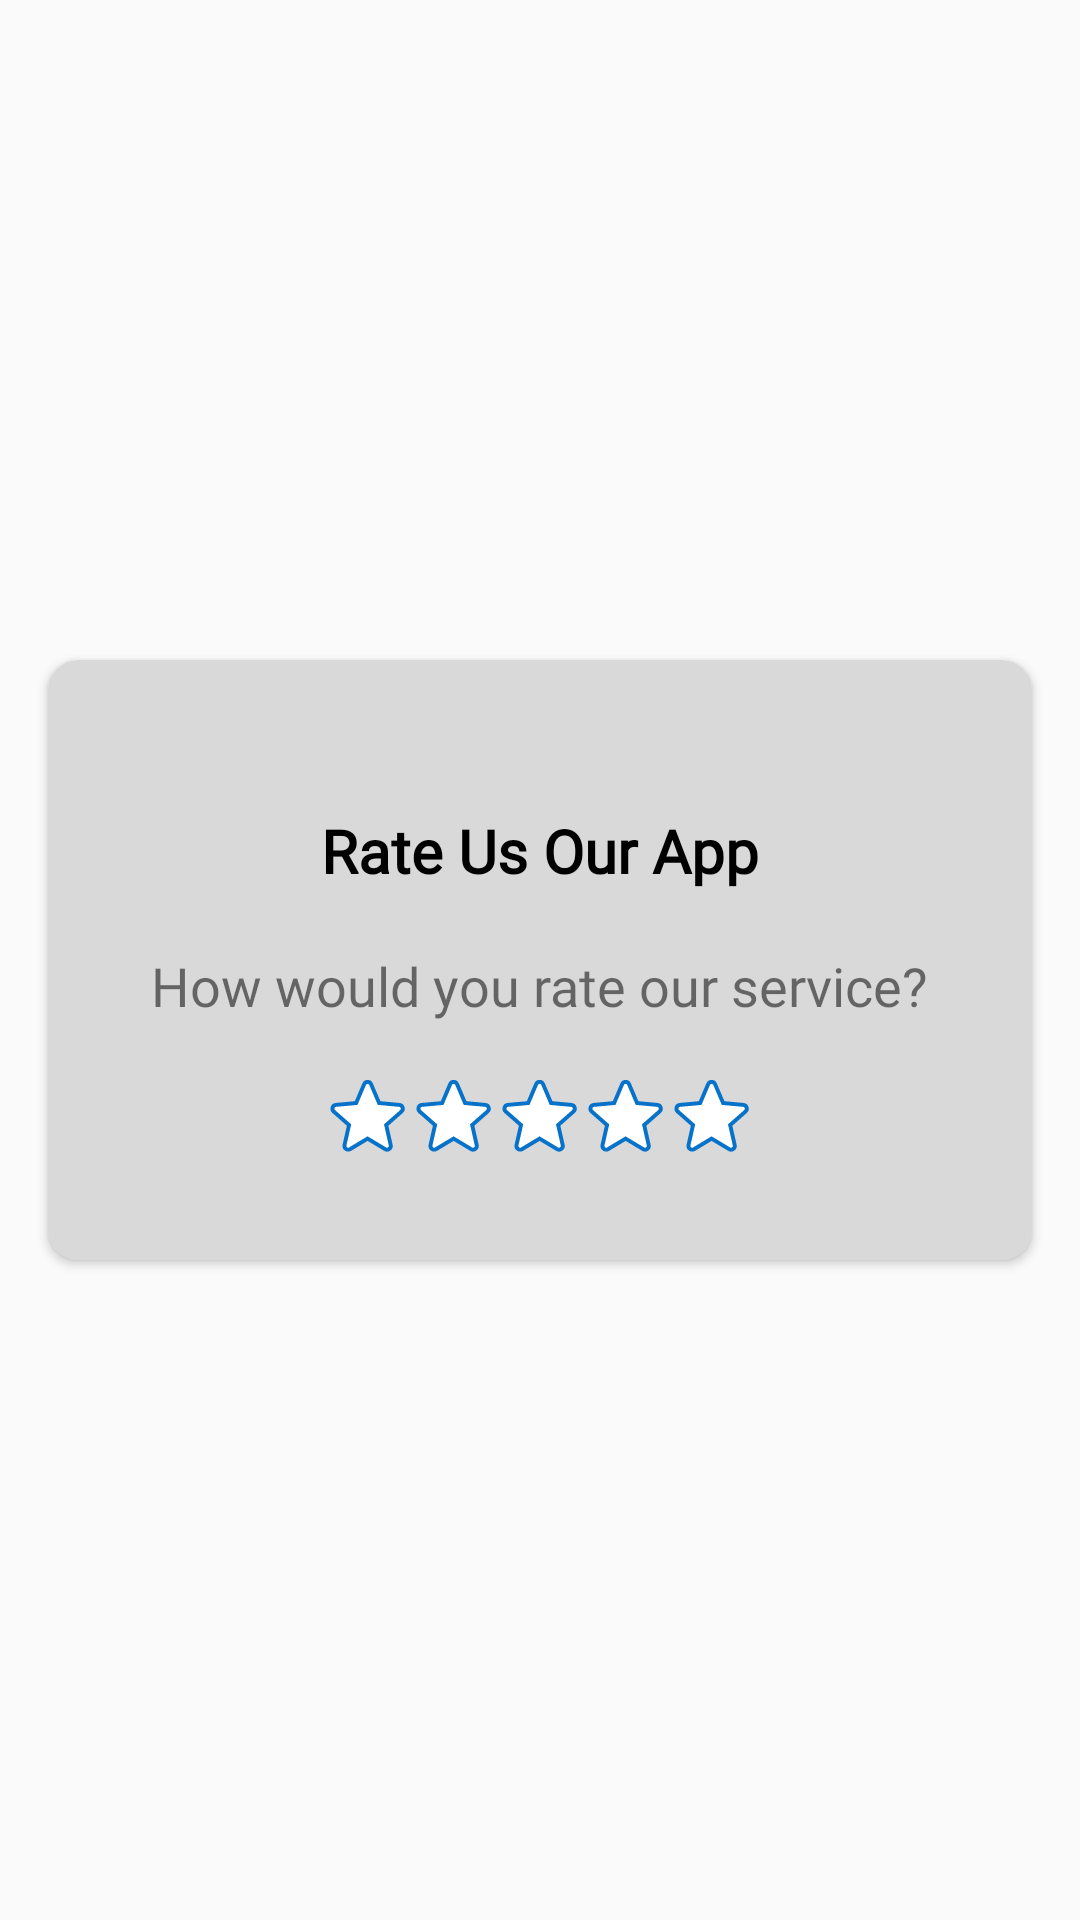

Point at icon controls on the screen. Image size 1080px x 1920px, points as [x,y].
rating blank: [367,1116], [453,1116], [539,1116], [625,1116], [711,1116]
